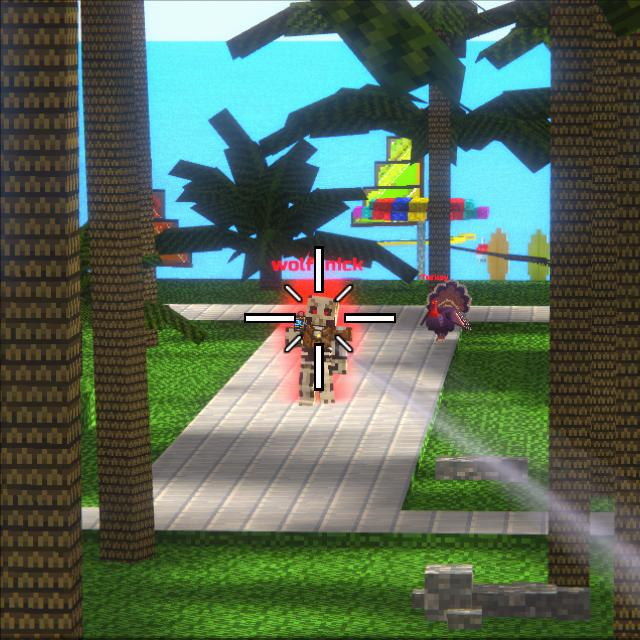Enemy: (284, 294, 351, 407)
